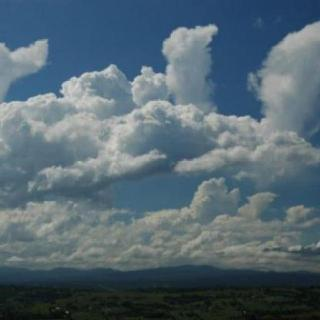Cumulus: (0, 16, 320, 273)
